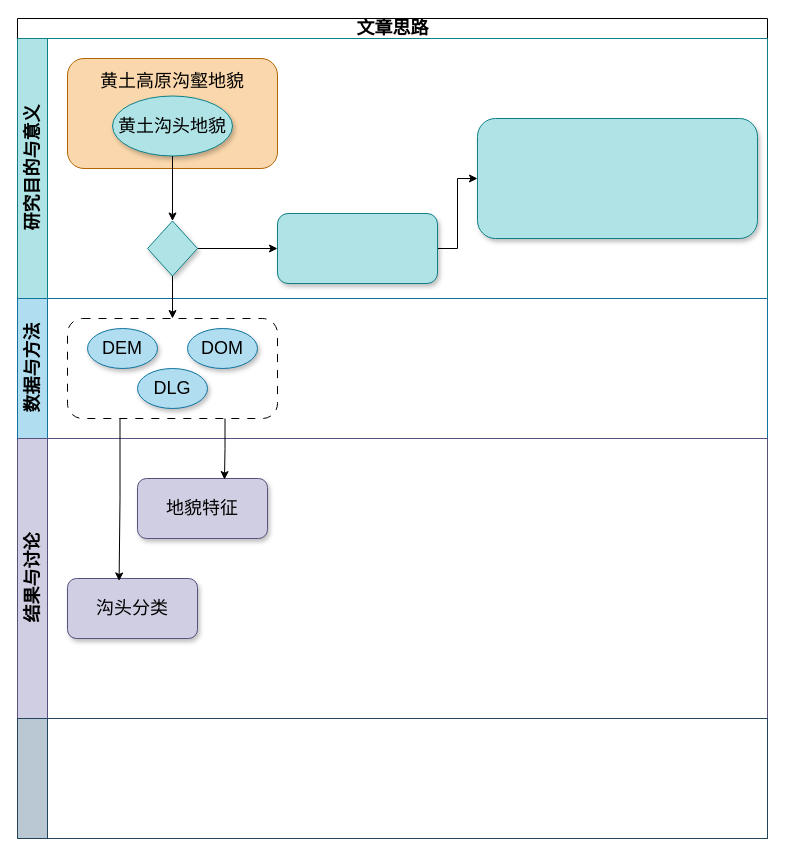
The diagram is 785 pixels wide and 856 high, and some of its shapes have lost their labels. The shapes that lost their labels are listed below. From the top down, each one's centre as x and y in pixels, then its label:
At pixel 618 180: "黄土高原沟壑发育阶段与演化过程".
At pixel 173 249: "特征".
At pixel 358 249: "黄土沟头概念模型".
At pixel 392 778: "结论".
